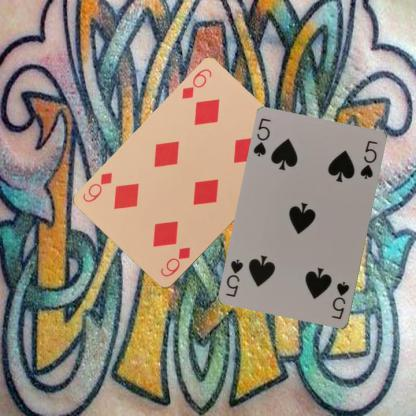5s: (329, 279, 351, 321), (250, 116, 272, 158)
6d: (158, 244, 192, 279), (179, 67, 213, 101)
